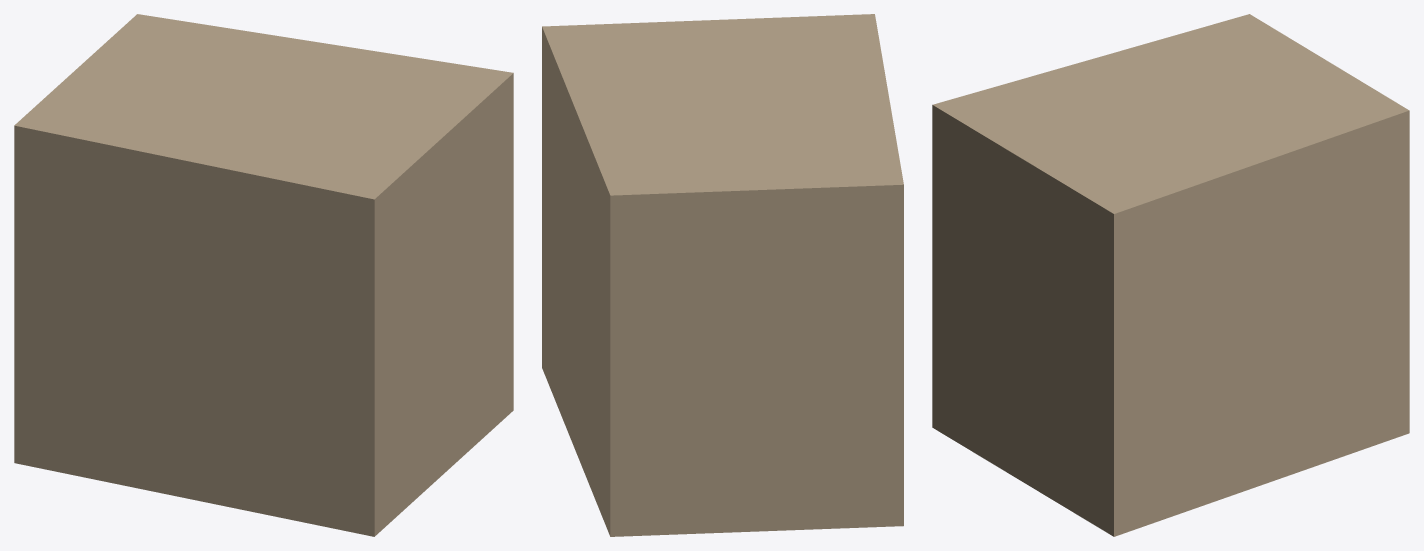
The model's file is bld_99007825.dae.
3 renders of one model, left to right at view 1: azimuth 30°, elevation 25°; view 2: azimuth 150°, elevation 25°; view 3: azimuth 270°, elevation 25°, orthographic. The views are drawn at different scales.
Visible parts, largest first — view 1: Ansell & Sons; view 2: Ansell & Sons; view 3: Ansell & Sons.
Part boxes in pixels (box(x1,y1,x2,y2)): Ansell & Sons: box(14, 14, 513, 536); Ansell & Sons: box(542, 14, 903, 536); Ansell & Sons: box(932, 14, 1409, 536).
Size of the model in its own units: 10.64 by 10.71 by 8.
